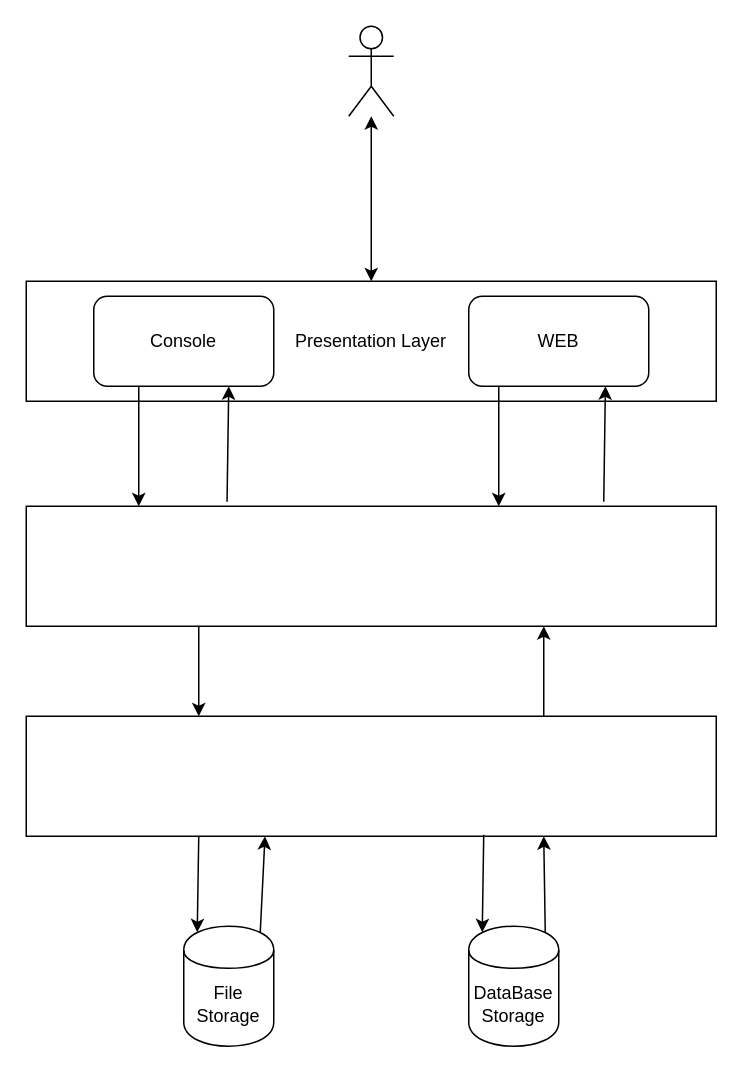
Some shapes in this 743 by 1073 pixel diagram are drawn without their labels. Here are the shapes that lost their labels. From the top down, the centre of each, then its label:
(370,70): User
(370,565): Business Logic Layer
(370,775): Data Access Layer
